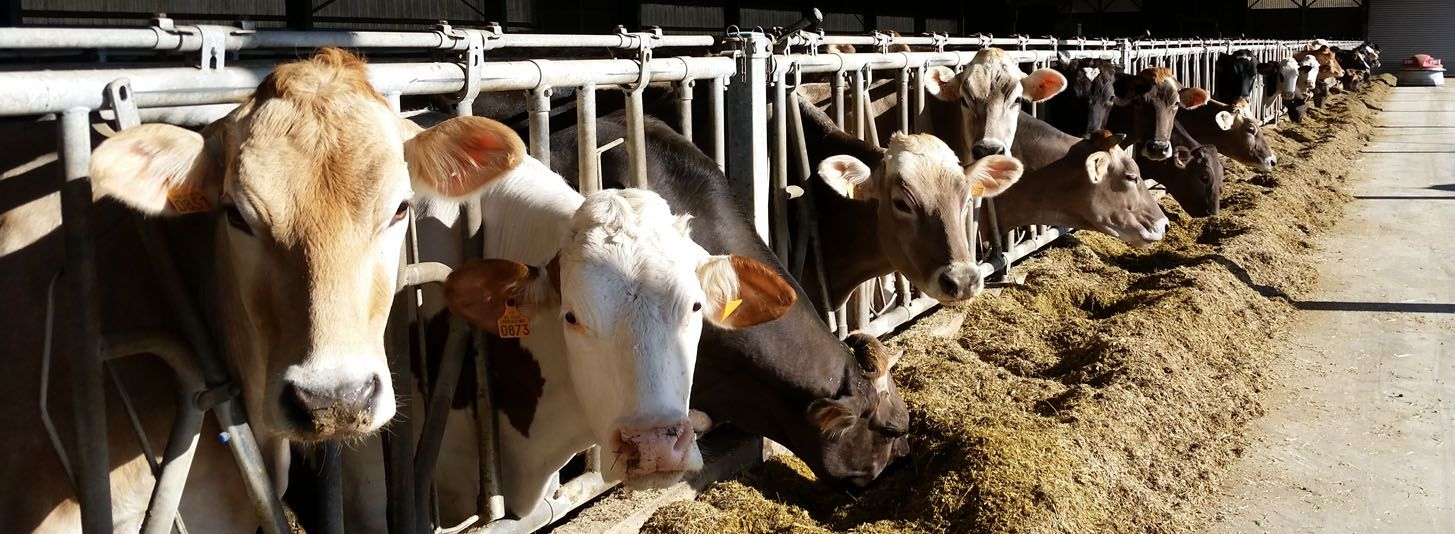cow: (134, 71, 442, 443), (509, 181, 720, 490), (781, 102, 1017, 316), (769, 295, 943, 503), (945, 43, 1044, 177), (1069, 138, 1185, 247), (1126, 58, 1194, 160), (1207, 100, 1289, 175), (1181, 146, 1246, 228), (1058, 63, 1128, 138), (1266, 56, 1311, 113), (1298, 49, 1332, 89)
